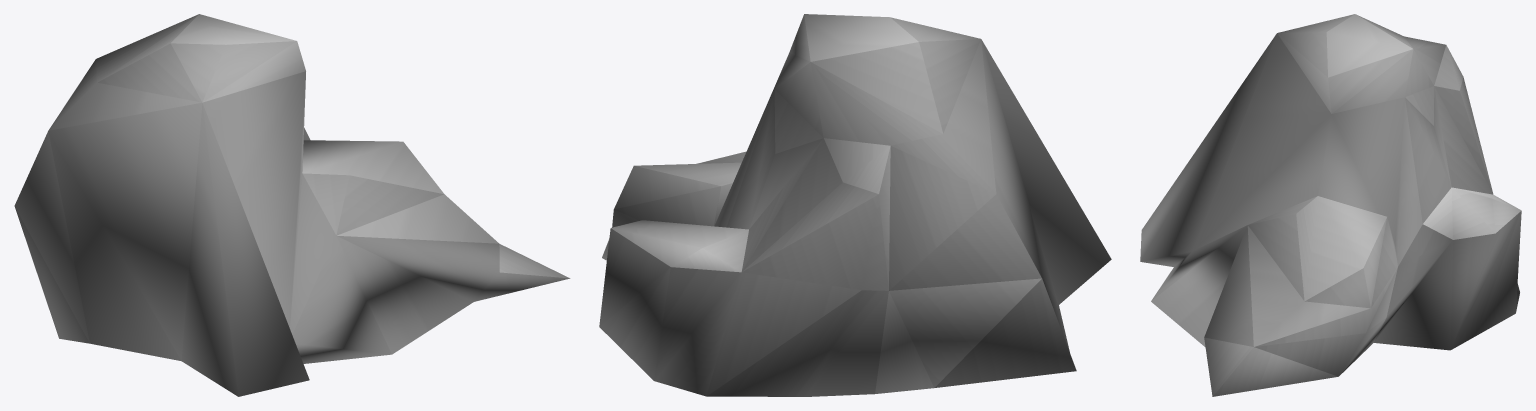
The model's file is GL-Rock-06.fbx.
The picture shows the model from 3 angles, left to right: view 1: azimuth 30°, elevation 25°; view 2: azimuth 150°, elevation 25°; view 3: azimuth 270°, elevation 25°; orthographic projection. The views are drawn at different scales.
Parts seen in each view (by area): view 1: GL-Rock-06; view 2: GL-Rock-06; view 3: GL-Rock-06.
Part boxes in pixels (x1,y1,x2,y2): GL-Rock-06: (14, 14, 570, 396); GL-Rock-06: (599, 14, 1111, 396); GL-Rock-06: (1140, 14, 1521, 396).
Size of the model in its own units: 9.41 by 5.11 by 7.43.
